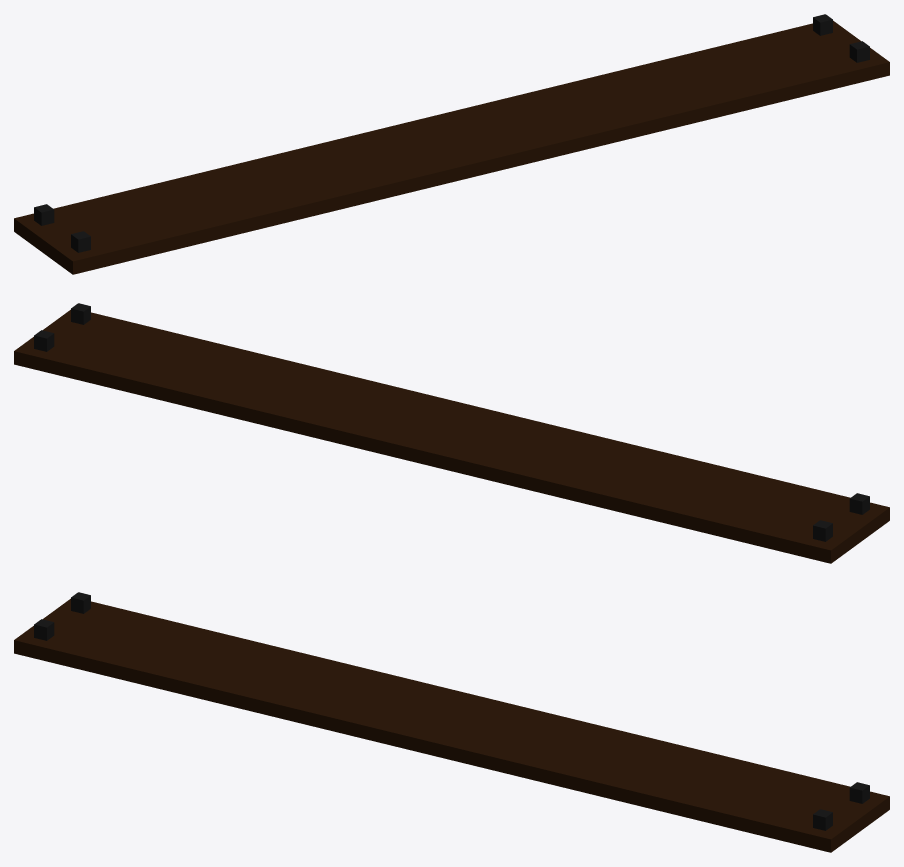
Rendered from plank000(64,8,2).obj.
The picture shows the model from 3 angles, top to bottom: view 1: azimuth 30°, elevation 25°; view 2: azimuth 150°, elevation 25°; view 3: azimuth 330°, elevation 25°; orthographic projection.
Size of the model in its own units: 64 by 2 by 8.
